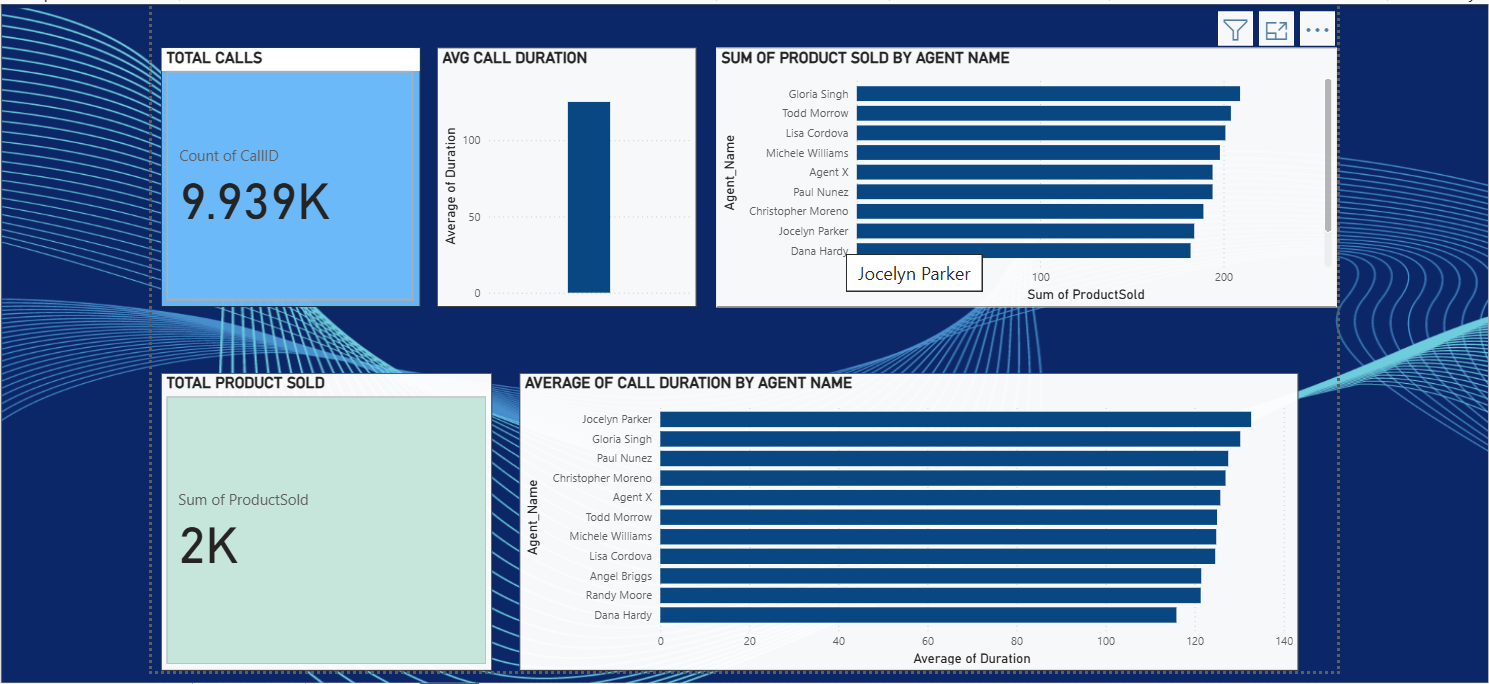

Layout of this report page (visuals, bound fields, positions):
{"tool":"powerbi","page":{"name":"Page 1","canvas":[1280,720],"ordinal":0},"visuals":[{"type":"cardVisual","title":"TOTAL CALLS","fields":{"Data":["Product_Sales.CallID"]},"box":[9.4,47.2,279.7,279.7],"z":0},{"type":"cardVisual","title":"TOTAL PRODUCT SOLD","fields":{"Data":["Product_Sales.ProductSold"]},"box":[9.4,398.7,357.2,321.3],"z":1000},{"type":"clusteredColumnChart","title":"AVG CALL DURATION","fields":{"Y":["Product_Sales.Duration","select"]},"box":[308,47.2,279.7,279.7],"z":2000},{"type":"clusteredBarChart","title":"AVERAGE OF CALL DURATION BY AGENT NAME","fields":{"Category":["Product_Sales.Agent_Name"],"Y":["Product_Sales.Duration"]},"box":[396.9,398.7,841,321.3],"z":3000},{"type":"barChart","title":" SUM OF PRODUCT SOLD BY AGENT NAME","fields":{"Category":["Product_Sales.Agent_Name"],"Y":["Product_Sales.ProductSold"]},"box":[608.5,47.2,670.9,279.7],"z":4000}]}

Visuals, with their boxes in screenshot pixels (x1, y1, x2, y2):
"TOTAL CALLS" cardVisual: 152, 40, 414, 302
"TOTAL PRODUCT SOLD" cardVisual: 152, 369, 486, 669
"AVG CALL DURATION" clusteredColumnChart: 431, 40, 693, 302
"AVERAGE OF CALL DURATION BY AGENT NAME" clusteredBarChart: 514, 369, 1301, 669
" SUM OF PRODUCT SOLD BY AGENT NAME" barChart: 712, 40, 1339, 302
